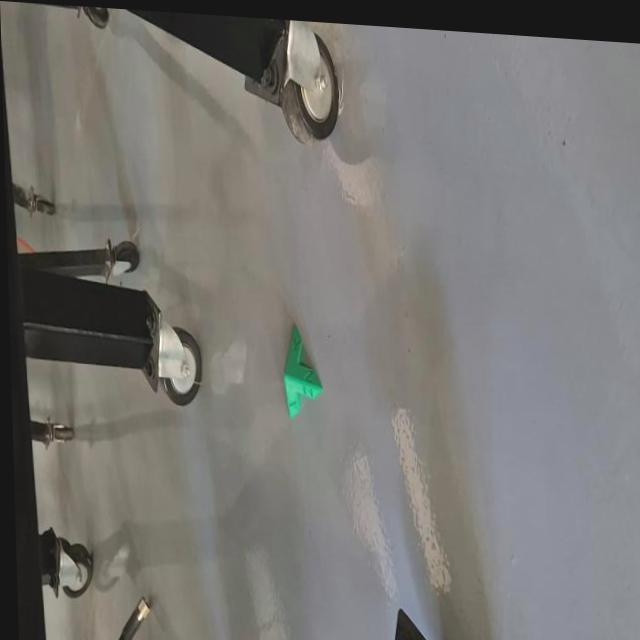eje: (281, 320, 325, 423)
